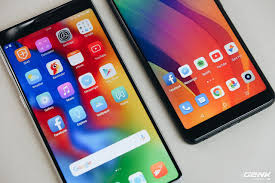bphone: (1, 1, 184, 183)
